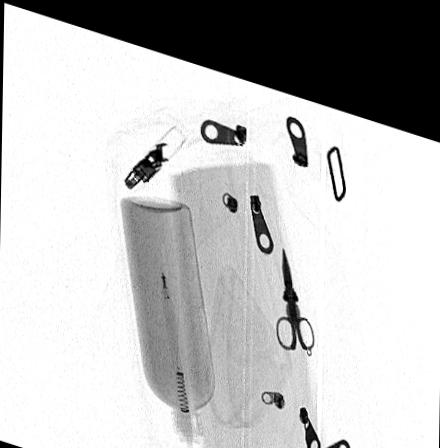Scissors: (276, 229, 316, 335)
